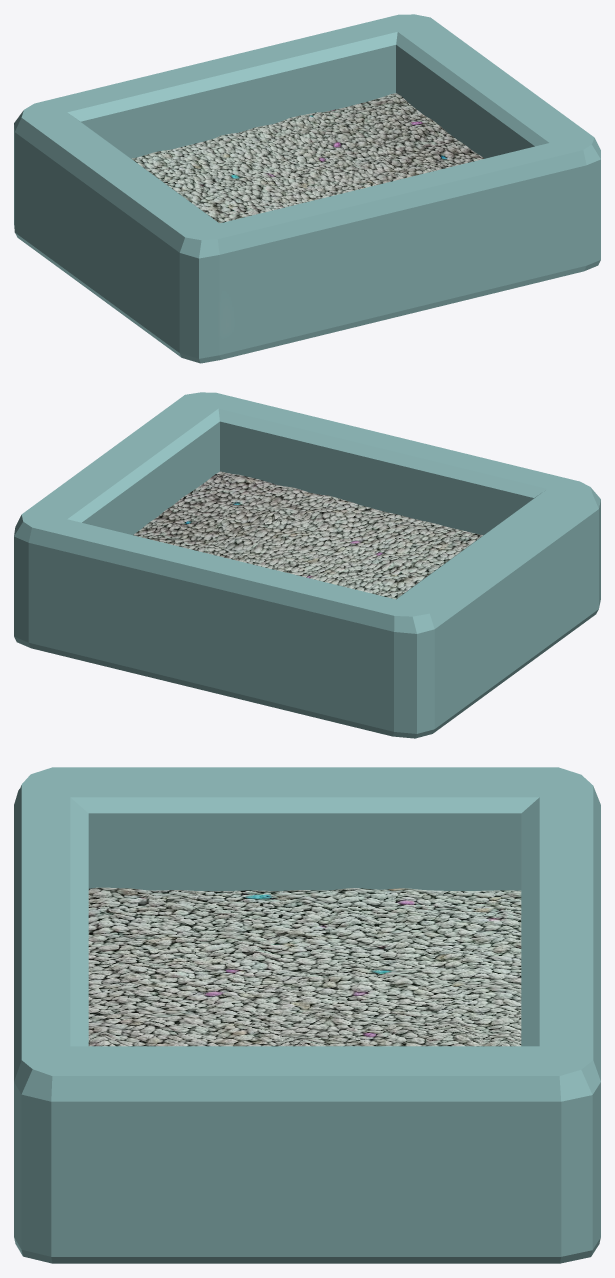
Rendered from Litterbox.gltf.
3 views of the same model, one above another, from view 1: azimuth 30°, elevation 25°; view 2: azimuth 150°, elevation 25°; view 3: azimuth 270°, elevation 25° (orthographic). The views are drawn at different scales.
Parts seen in each view (by area): view 1: Cube, Grid; view 2: Cube, Grid; view 3: Cube, Grid.
Boxes of the visible parts, x1,y1,x2,y2 form: Cube: (14,14,600,363); Grid: (131,93,484,223); Cube: (14,392,600,738); Grid: (133,471,483,599); Cube: (14,767,600,1263); Grid: (88,887,521,1046).
Size of the model in its own units: 2 by 0.5494 by 1.56.
2 materials, 2 textured.
